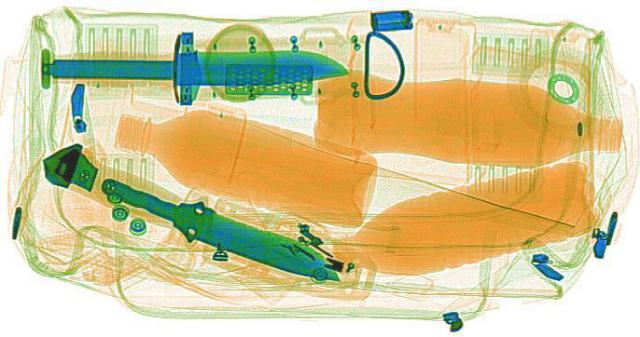Knife: (74, 168, 362, 293), (36, 29, 350, 102)
